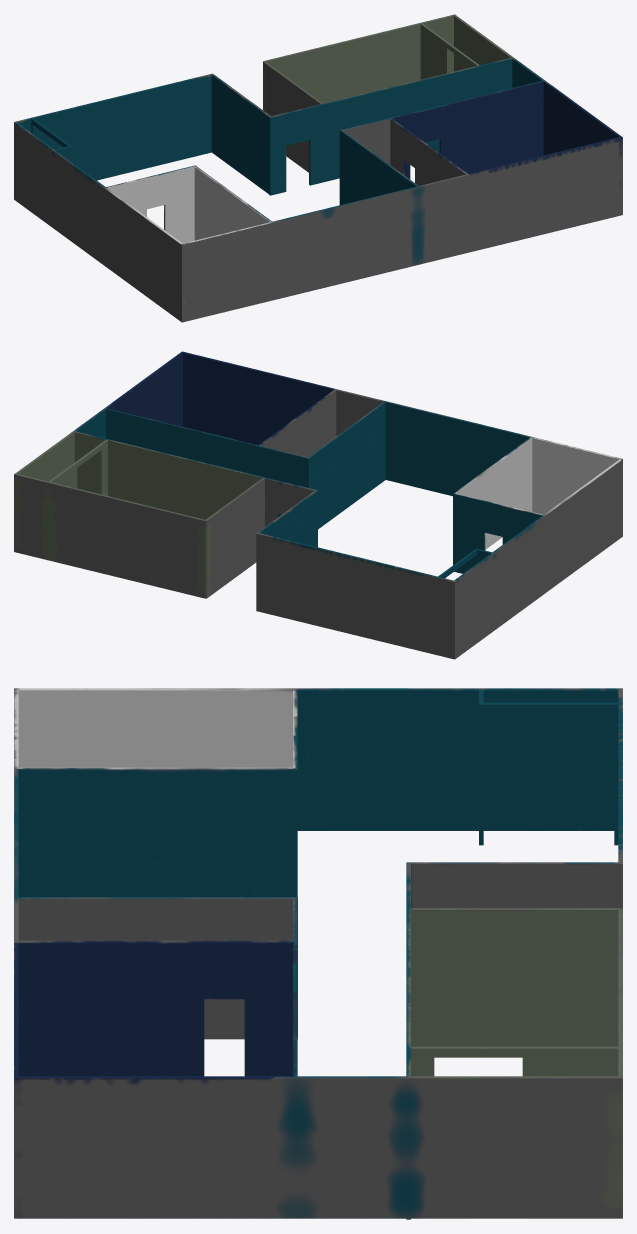
File: BigHouse.fbx
The picture shows the model from 3 angles, top to bottom: view 1: azimuth 30°, elevation 25°; view 2: azimuth 150°, elevation 25°; view 3: azimuth 270°, elevation 25°; orthographic projection. The views are drawn at different scales.
Parts seen in each view (by area): view 1: House:polySurface30Walls1_polySurface1, House:polySurface29Walls1_polySurface1, House:polySurface32Walls1_polySurface1, House:polySurface14Walls1_polySurface1, House:polySurface17Walls1_polySurface1, House:polySurface31Walls1_polySurface1, House:polySurface18Walls1_polySurface1, House:polySurface33Walls1_polySurface1, House:polySurface23Walls1_polySurface1, House:polySurface12Walls1_polySurface1, House:polySurface24Walls1_polySurface1, House:polySurface11Walls1_polySurface1 (+2 smaller); view 2: House:polySurface30Walls1_polySurface1, House:polySurface32Walls1_polySurface1, House:polySurface31Walls1_polySurface1, House:polySurface29Walls1_polySurface1, House:polySurface14Walls1_polySurface1, House:polySurface17Walls1_polySurface1, House:polySurface12Walls1_polySurface1, House:polySurface18Walls1_polySurface1, House:polySurface13Walls1_polySurface1, House:polySurface23Walls1_polySurface1, House:polySurface24Walls1_polySurface1, House:polySurface11Walls1_polySurface1 (+2 smaller); view 3: House:polySurface18Walls1_polySurface1, House:polySurface29Walls1_polySurface1, House:polySurface24Walls1_polySurface1, House:polySurface11Walls1_polySurface1, House:polySurface13Walls1_polySurface1, House:polySurface12Walls1_polySurface1, House:polySurface33Walls1_polySurface1, House:polySurface34Walls1_polySurface1, House:polySurface30Walls1_polySurface1, House:polySurface26Walls1_polySurface1, House:polySurface31Walls1_polySurface1, House:polySurface14Walls1_polySurface1 (+6 smaller).
Boxes of the visible parts, x1,y1,x2,y2 form: House:polySurface30Walls1_polySurface1: (181,137,622,322); House:polySurface29Walls1_polySurface1: (14,122,183,322); House:polySurface32Walls1_polySurface1: (14,74,211,180); House:polySurface14Walls1_polySurface1: (269,57,514,195); House:polySurface17Walls1_polySurface1: (342,80,543,179); House:polySurface31Walls1_polySurface1: (263,14,455,103); House:polySurface18Walls1_polySurface1: (454,15,622,155); House:polySurface33Walls1_polySurface1: (211,73,270,193); House:polySurface23Walls1_polySurface1: (106,165,196,243); House:polySurface12Walls1_polySurface1: (339,129,418,204); House:polySurface24Walls1_polySurface1: (194,166,272,240); House:polySurface11Walls1_polySurface1: (389,117,468,185); House:polySurface30Walls1_polySurface1: (182,352,622,514); House:polySurface32Walls1_polySurface1: (256,533,455,659); House:polySurface31Walls1_polySurface1: (14,473,206,598); House:polySurface29Walls1_polySurface1: (453,459,622,659); House:polySurface14Walls1_polySurface1: (74,431,317,547); House:polySurface17Walls1_polySurface1: (106,408,307,516); House:polySurface12Walls1_polySurface1: (306,402,385,529); House:polySurface18Walls1_polySurface1: (14,351,183,481); House:polySurface13Walls1_polySurface1: (205,478,264,598); House:polySurface23Walls1_polySurface1: (453,493,543,573); House:polySurface24Walls1_polySurface1: (454,437,532,549); House:polySurface11Walls1_polySurface1: (257,389,336,457); House:polySurface18Walls1_polySurface1: (14,1076,618,1218); House:polySurface29Walls1_polySurface1: (14,688,622,830); House:polySurface24Walls1_polySurface1: (14,767,295,896); House:polySurface11Walls1_polySurface1: (15,940,297,1076); House:polySurface13Walls1_polySurface1: (411,908,621,1046); House:polySurface12Walls1_polySurface1: (14,897,297,1039); House:polySurface33Walls1_polySurface1: (411,862,622,908); House:polySurface34Walls1_polySurface1: (522,1046,618,1076); House:polySurface30Walls1_polySurface1: (14,688,18,1218); House:polySurface26Walls1_polySurface1: (483,702,618,713); House:polySurface31Walls1_polySurface1: (618,909,622,1218); House:polySurface14Walls1_polySurface1: (406,862,410,1219).
Size of the model in its own units: 66.01 by 11.18 by 43.58.
1 material, 1 textured.
